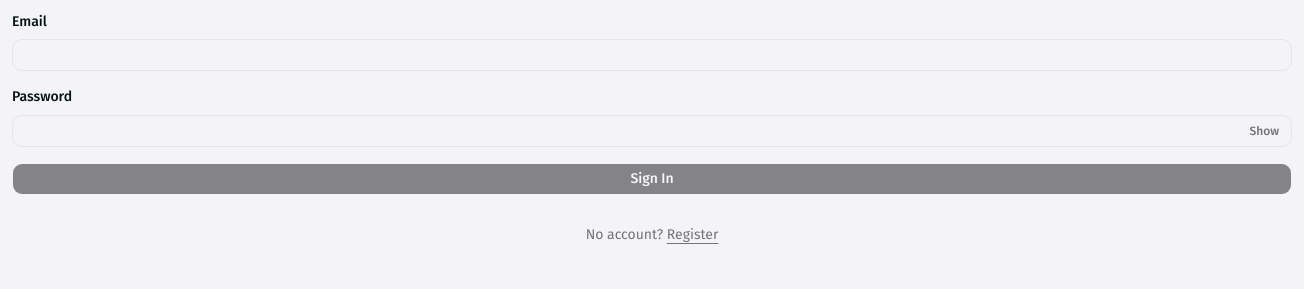
Test: Login validation › shows an error when email is empty
The image size is (1304, 289).
Type "password123" into the password field labelled "Password".
click(652, 130); type("password123")  # box [12,114,1292,146]
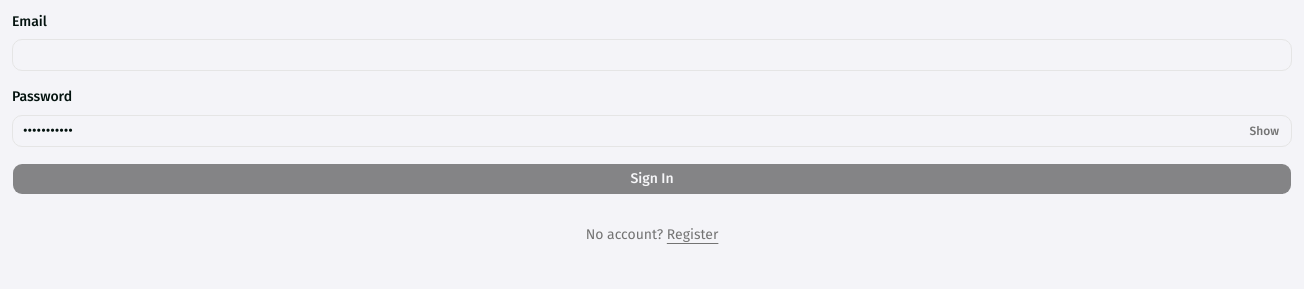
Submit the form "Email Password Show Sign In No account? Register"
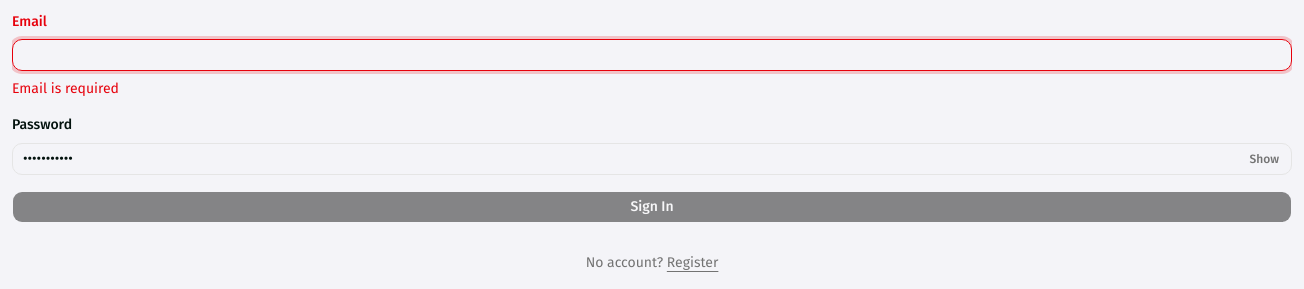
Expected: the text "Email is required" is shown, [12,80,119,97]
